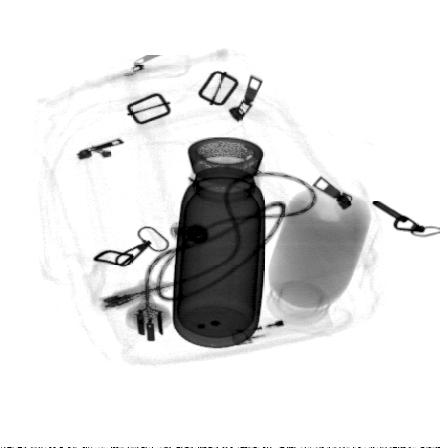Lighter: (230, 308, 334, 347)
